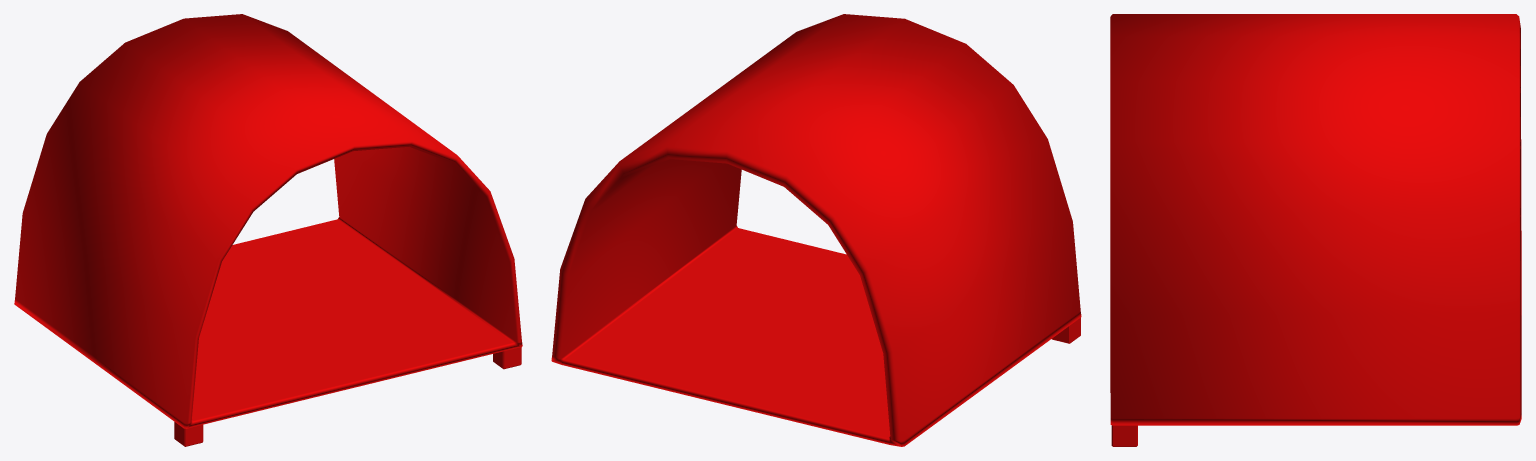
File: Hut.fbx
3 views of the same model, side by side, from view 1: azimuth 30°, elevation 25°; view 2: azimuth 150°, elevation 25°; view 3: azimuth 270°, elevation 25° (orthographic). The views are drawn at different scales.
Visible parts, largest first — view 1: HutBase, Leg2; view 2: HutBase; view 3: HutBase, Leg1.
Boxes of the visible parts, <box> form: HutBase: <box>14,14,522,428</box>; Leg2: <box>174,422,203,446</box>; HutBase: <box>551,14,1081,446</box>; HutBase: <box>1110,14,1521,425</box>; Leg1: <box>1111,425,1137,446</box>.
Bounding box in the file's own units: 472 × 351 × 417.
